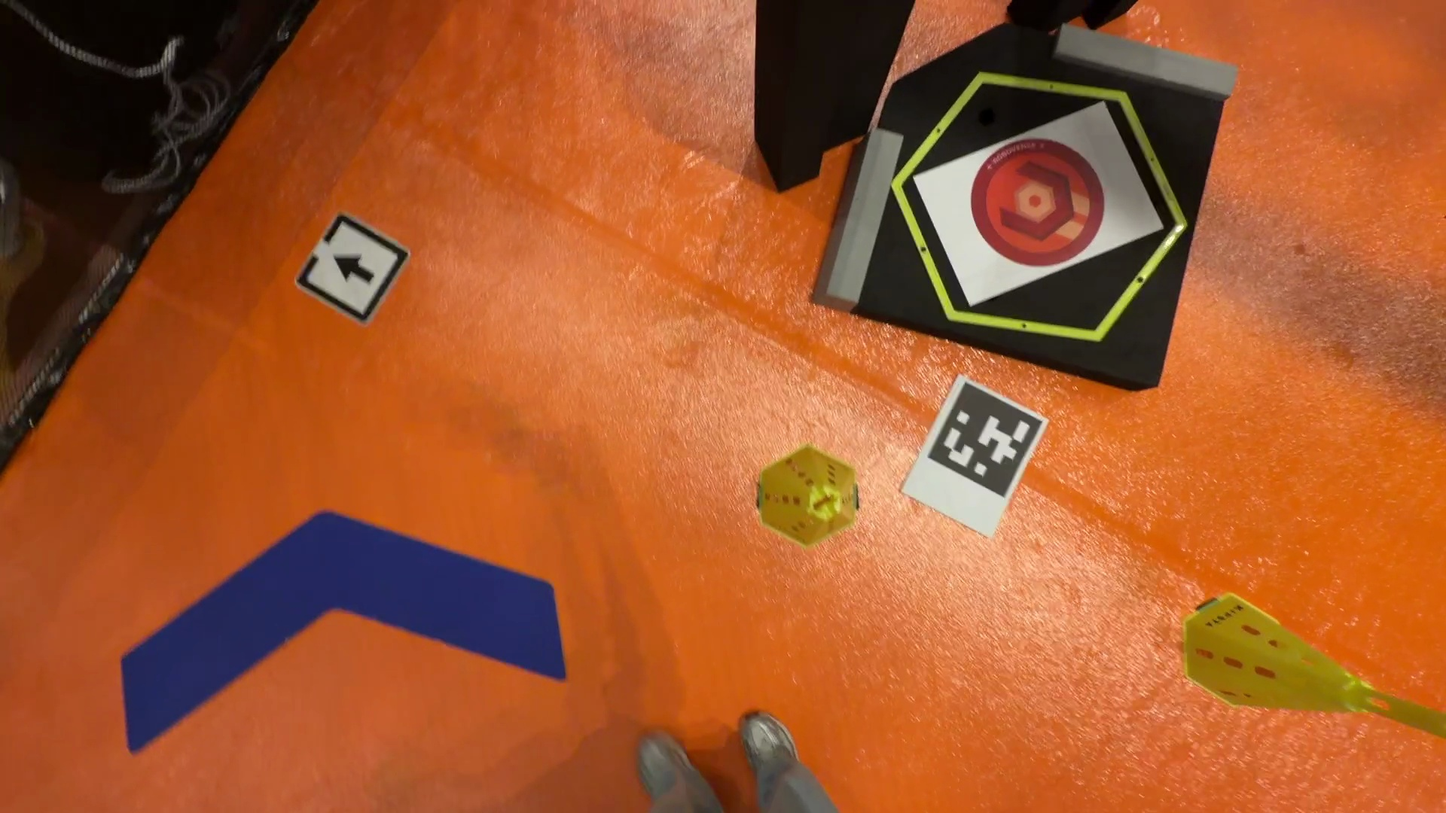landing_pad: (967, 140, 1110, 270)
